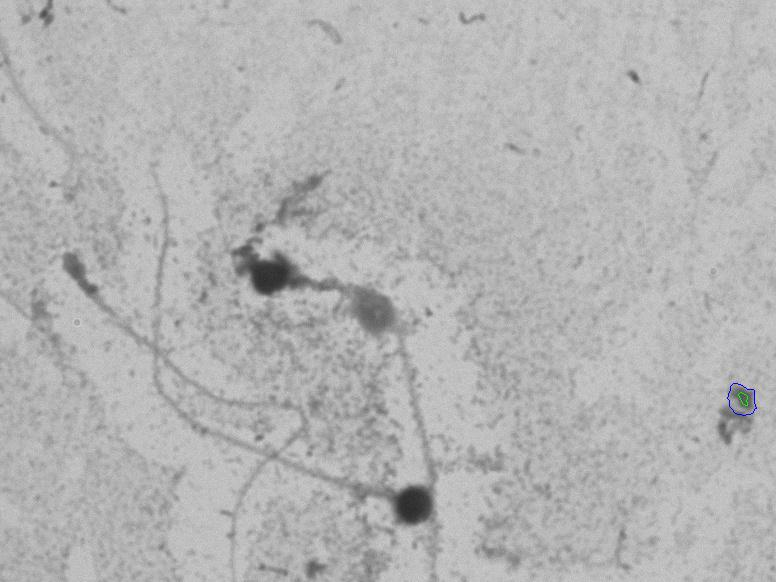Abnormal: (217, 182, 495, 400), (158, 418, 447, 567)
